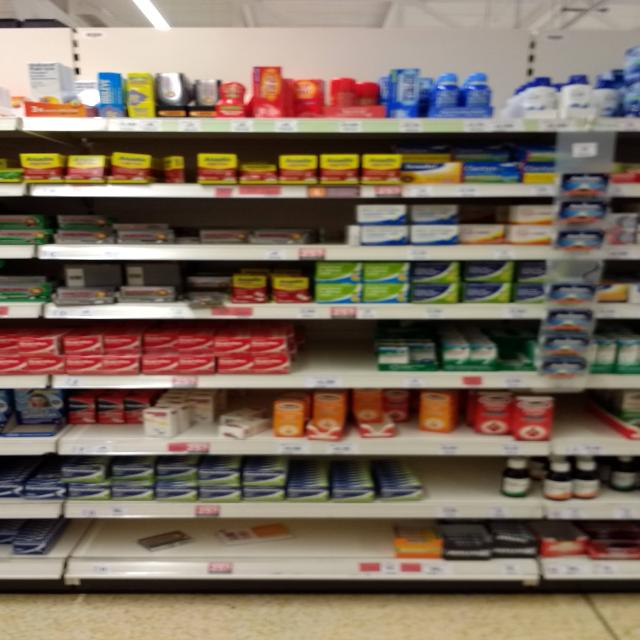unorganised: (310, 393, 461, 444), (501, 456, 602, 501), (212, 520, 304, 551), (132, 520, 199, 558), (141, 404, 212, 438), (69, 397, 142, 428), (286, 76, 325, 118), (217, 411, 266, 439), (186, 274, 230, 301), (159, 152, 191, 184), (193, 77, 218, 112), (356, 77, 378, 112), (412, 343, 434, 363)
